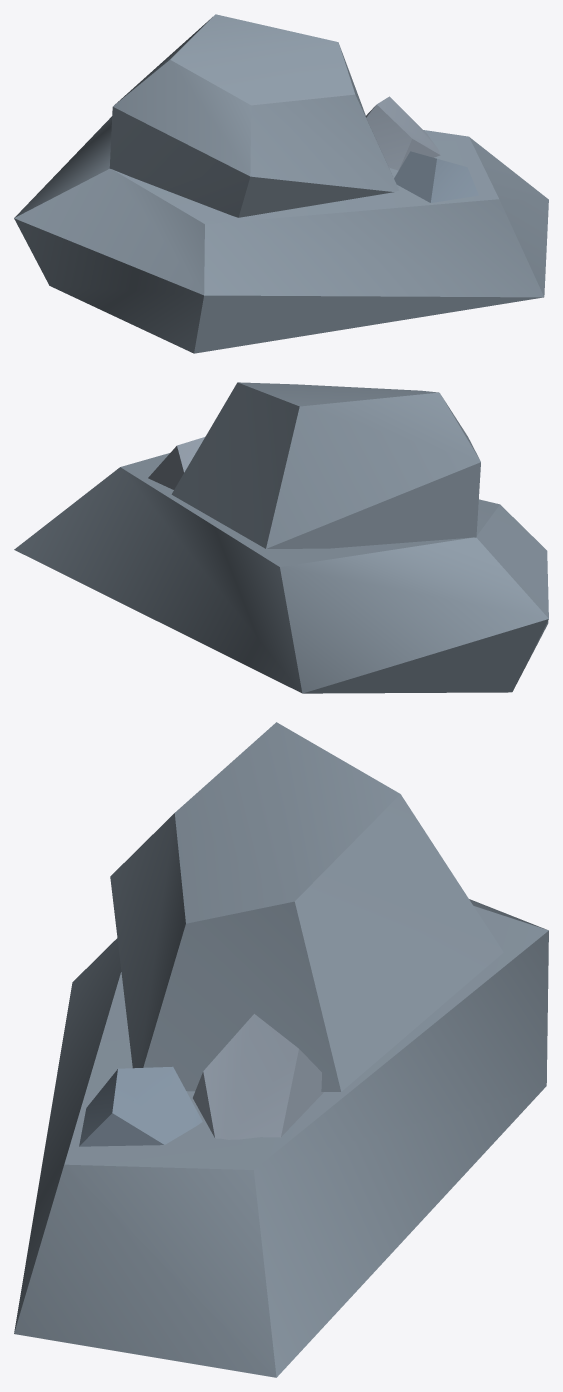
Rendered from Stone_1.fbx.
3 renders of one model, top to bottom at view 1: azimuth 30°, elevation 25°; view 2: azimuth 150°, elevation 25°; view 3: azimuth 270°, elevation 25°, orthographic. The views are drawn at different scales.
Parts seen in each view (by area): view 1: Stone6; view 2: Stone6; view 3: Stone6.
Boxes of the visible parts, x1,y1,x2,y2 form: Stone6: [14, 14, 548, 353]; Stone6: [14, 382, 548, 693]; Stone6: [14, 722, 548, 1377].
Size of the model in its own units: 560 by 262 by 327.
